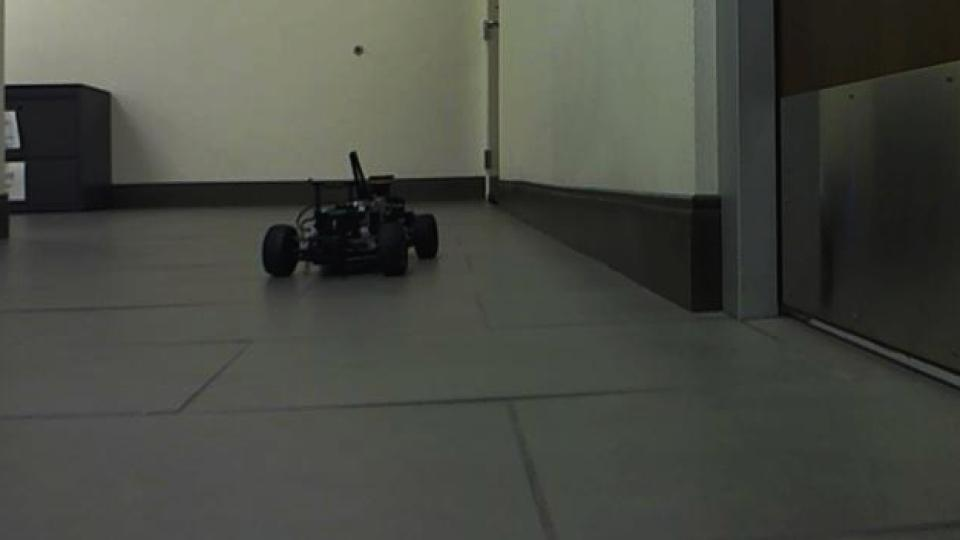car: (258, 149, 442, 282)
